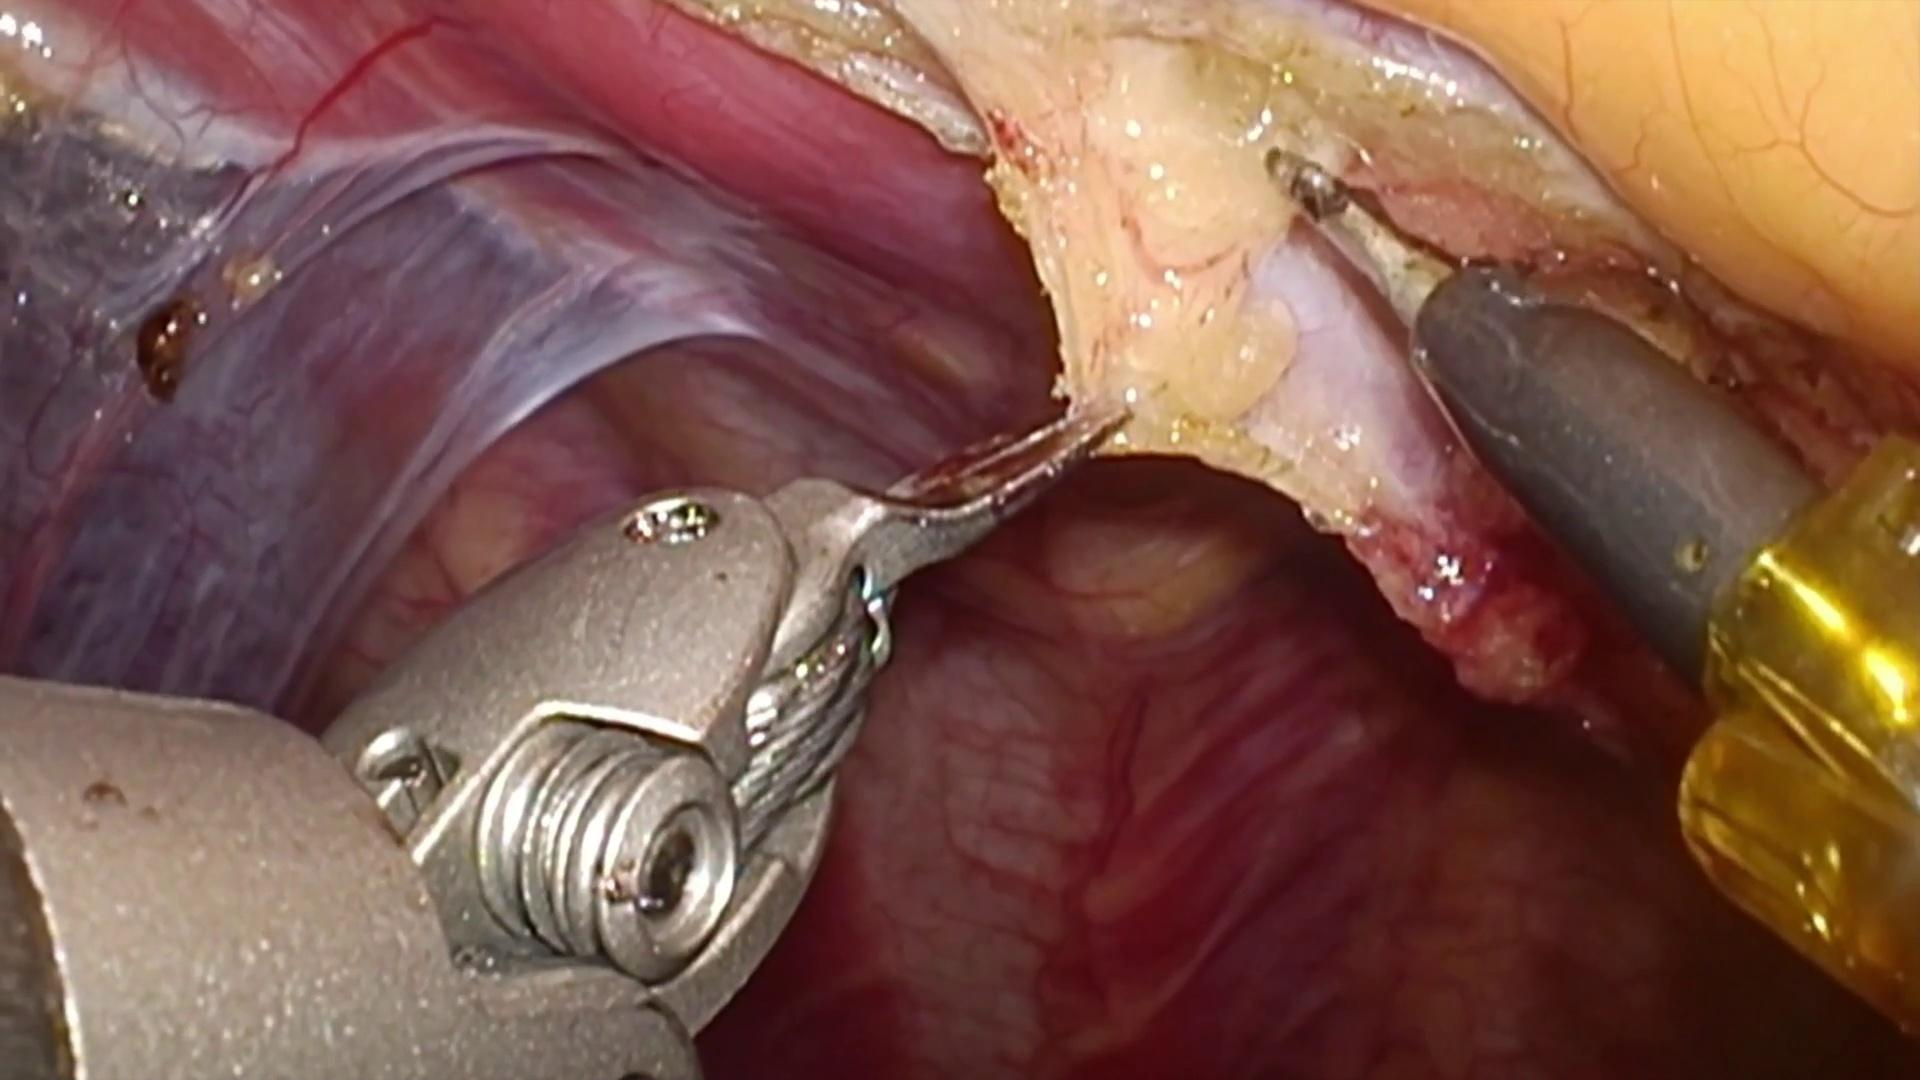Cautery_Spatula: (1269, 146, 1830, 696)
Debakey: (766, 386, 1141, 699)
